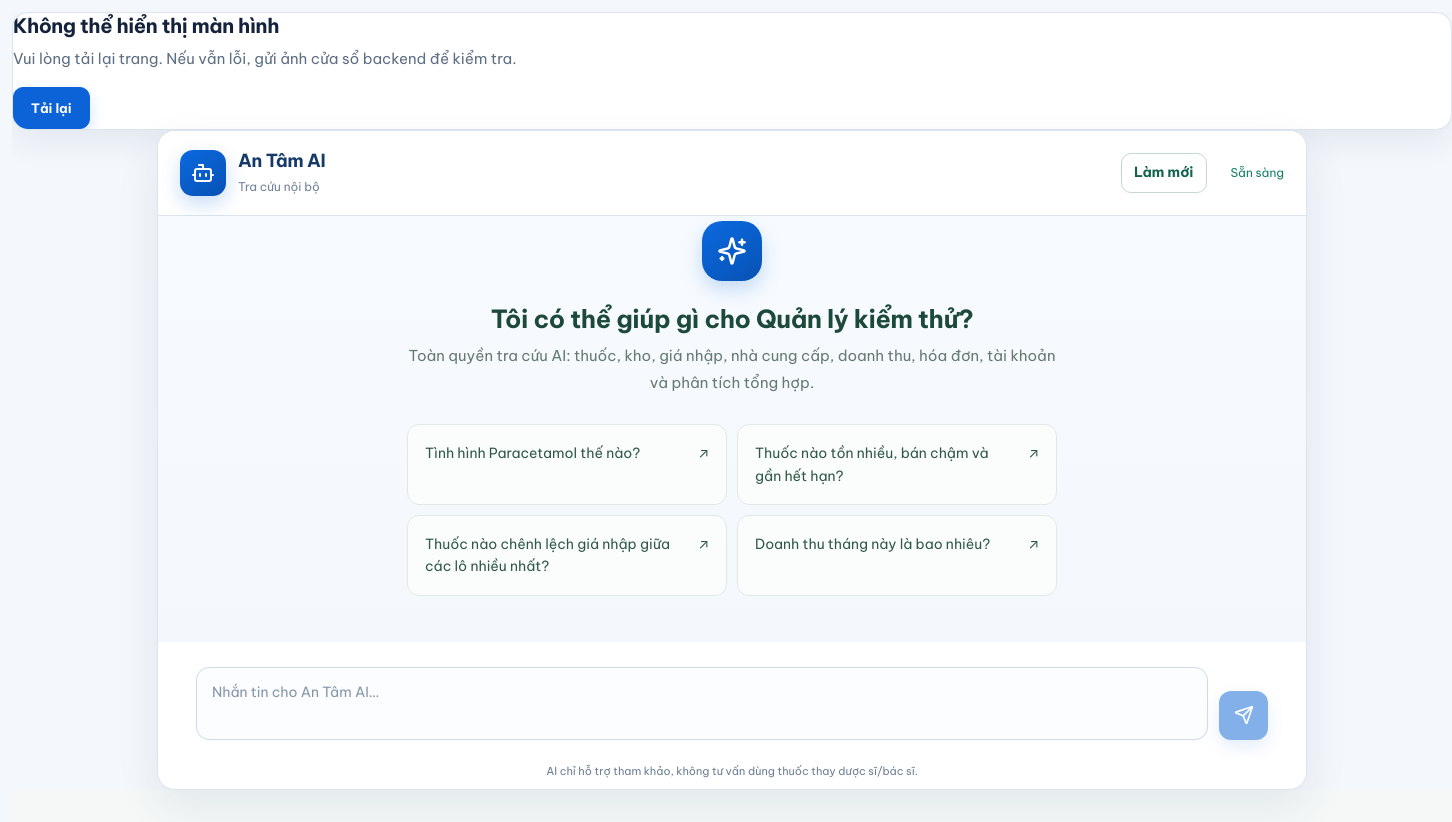
Test: AI header omits chat persistence note and hides stray asterisks
(page scrolled)
Expected: the text "Tra cứu nội bộ" is shown, top-left (238, 179), bottom-right (320, 194)
In the text box with placeholder "Nhắn tin cho An Tâm AI…": [702, 703] box top-left (196, 666), bottom-right (1208, 740), type "Quy trình?"
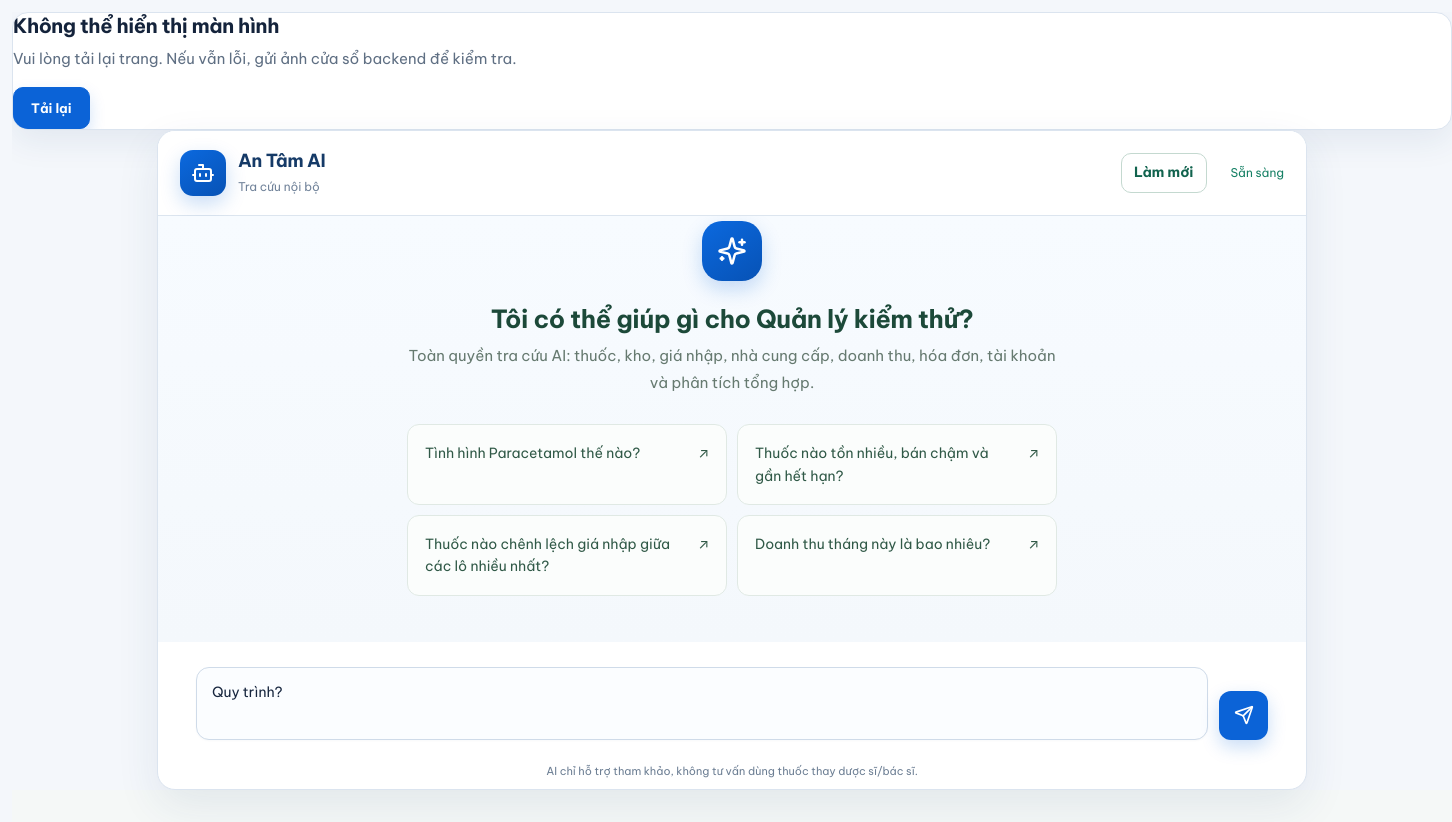
Click the button named "Gửi": [1244, 715] box top-left (1219, 691), bottom-right (1268, 740)
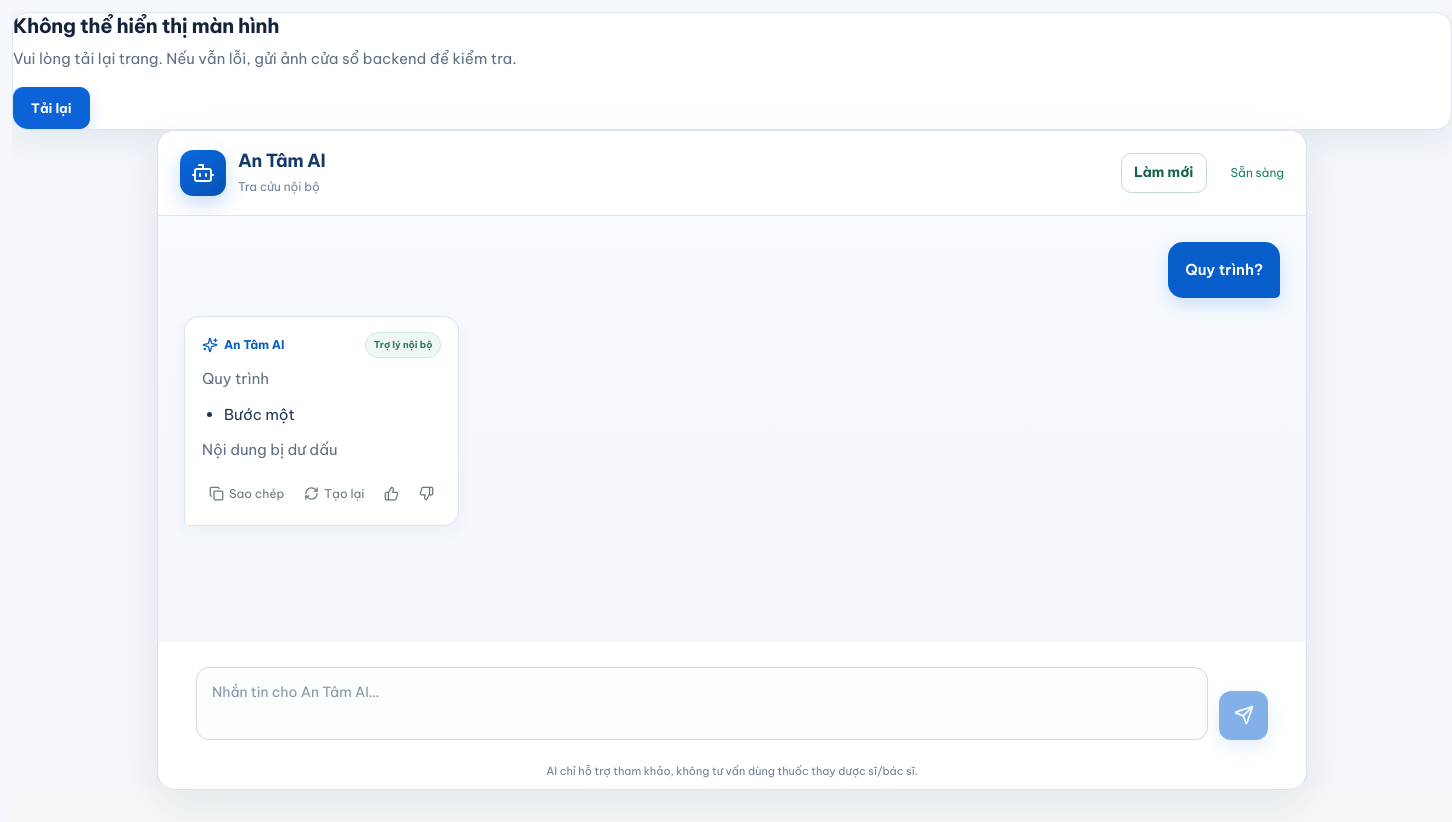
Expected: the list item "Bước một" is shown, top-left (224, 405), bottom-right (295, 424)
